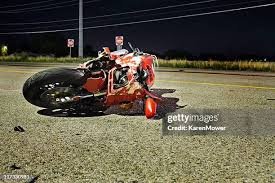motorcycle: (23, 40, 166, 118)
